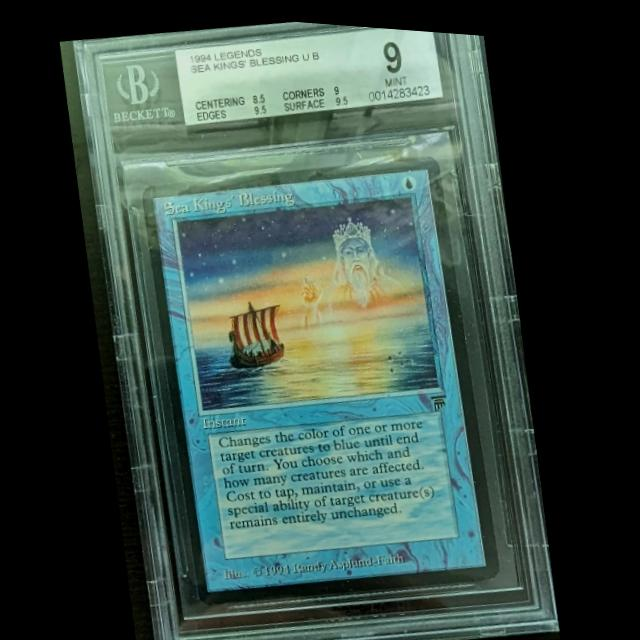bgs_label: (175, 22, 444, 123)
bgs_slab: (74, 17, 564, 640)
card: (143, 148, 506, 604)
